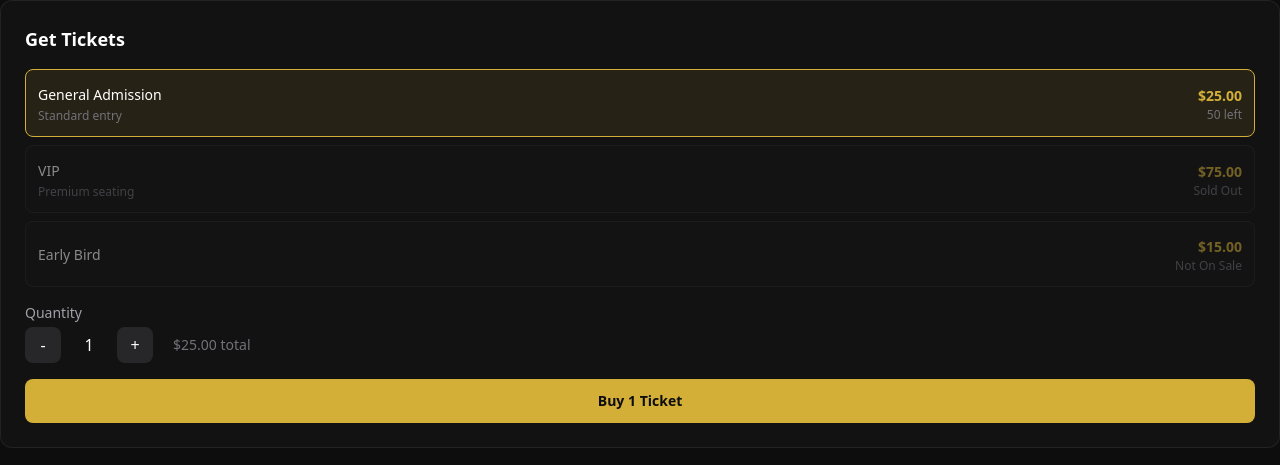
TicketPurchaseWidget › shows quantity controls and allows increment/decrement
Expected: the text "Quantity" is shown, [25,303,82,322]
Click the button "+". click: (135, 345)
box: [117,327,153,363]
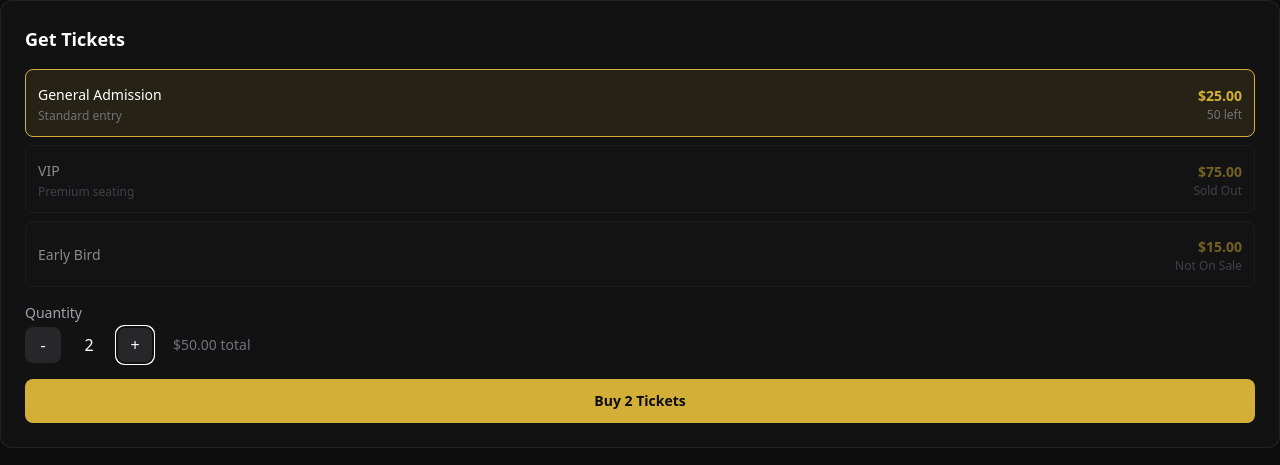
Expected: the text "2" is shown, [84,334,94,356]
Expected: the text "$50.00 total" is shown, [173,335,250,355]
Click - to go back to 1
Click the button "-". click: (43, 345)
box: [25,327,61,363]
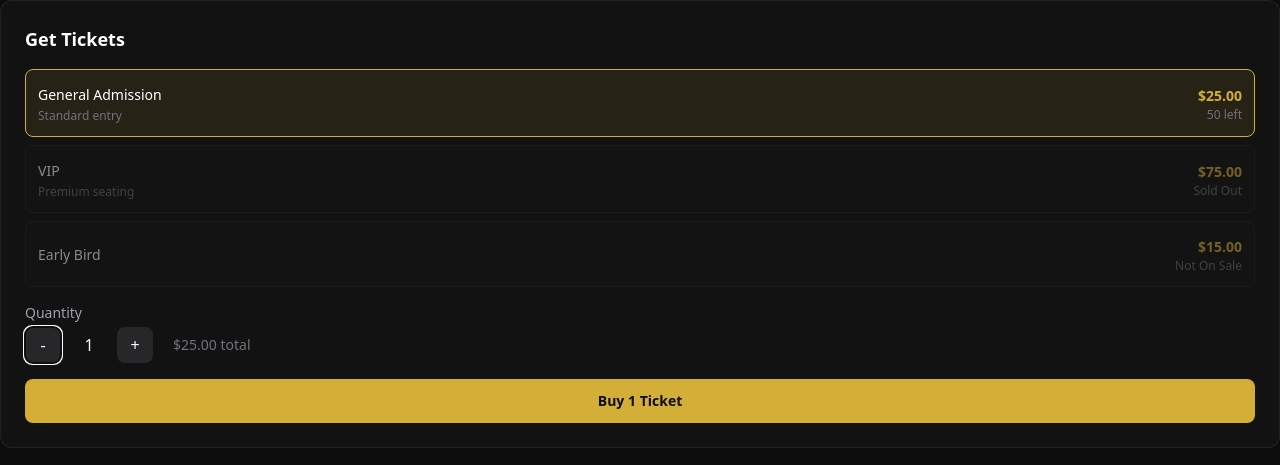
Expected: the text "$25.00 total" is shown, [173,335,250,355]
